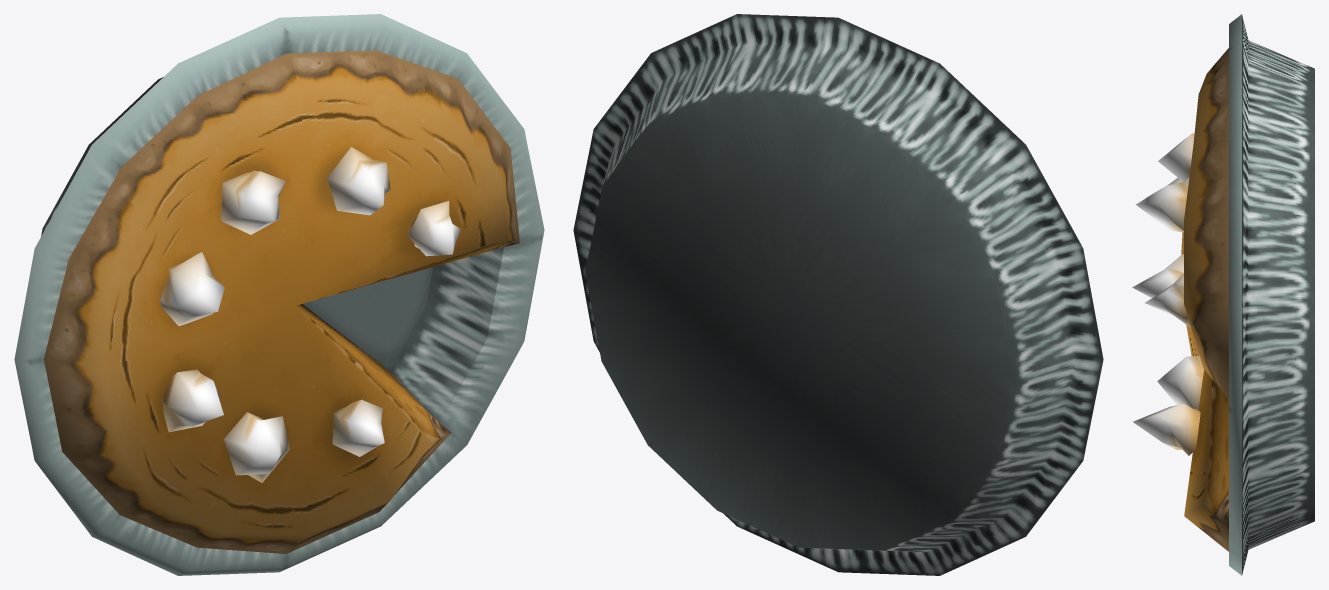
3 renders of one model, left to right at view 1: azimuth 30°, elevation 25°; view 2: azimuth 150°, elevation 25°; view 3: azimuth 270°, elevation 25°, orthographic. The views are drawn at different scales.
Parts seen in each view (by area): view 1: punkin_pie.part_model-MeshNodes["mesh_punkin_pie"]; view 2: punkin_pie.part_model-MeshNodes["mesh_punkin_pie"]; view 3: punkin_pie.part_model-MeshNodes["mesh_punkin_pie"].
Boxes of the visible parts, box(x1,y1,x2,y2) form: punkin_pie.part_model-MeshNodes["mesh_punkin_pie"]: box(14, 14, 544, 575); punkin_pie.part_model-MeshNodes["mesh_punkin_pie"]: box(573, 14, 1103, 575); punkin_pie.part_model-MeshNodes["mesh_punkin_pie"]: box(1132, 14, 1314, 575).
Size of the model in its own units: 0.9813 by 0.9813 by 0.3192.
1 material, 1 textured.
